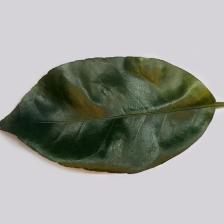healthy: (39, 78, 216, 177)
